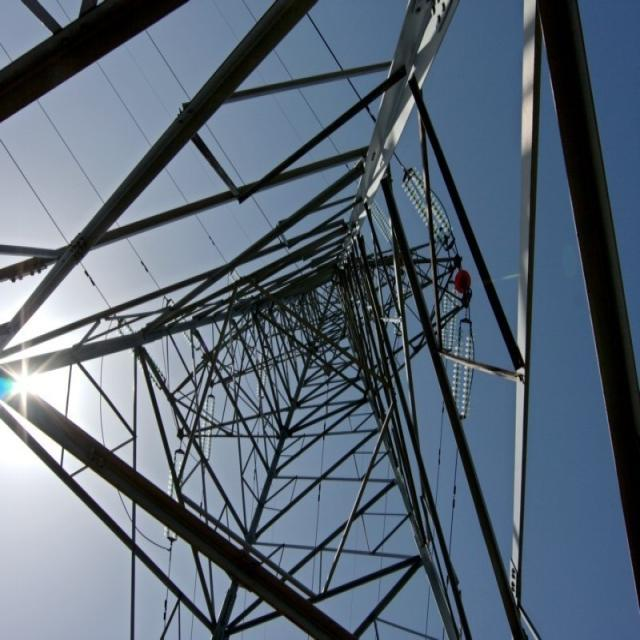non-critical vegetation: (4, 13, 632, 632)
